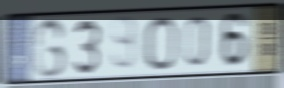0: (182, 14, 212, 71)
3: (70, 16, 102, 77)
6: (218, 11, 252, 70)
9: (110, 13, 138, 77)
G: (30, 15, 68, 80)
O: (142, 14, 178, 72)
